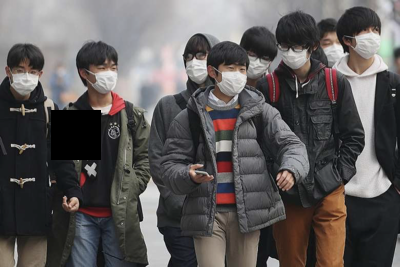with_mask: (353, 26, 384, 61), (88, 61, 119, 95), (276, 42, 311, 70), (217, 64, 246, 97), (184, 49, 210, 83), (11, 64, 40, 94), (322, 35, 346, 66), (243, 52, 271, 78)
